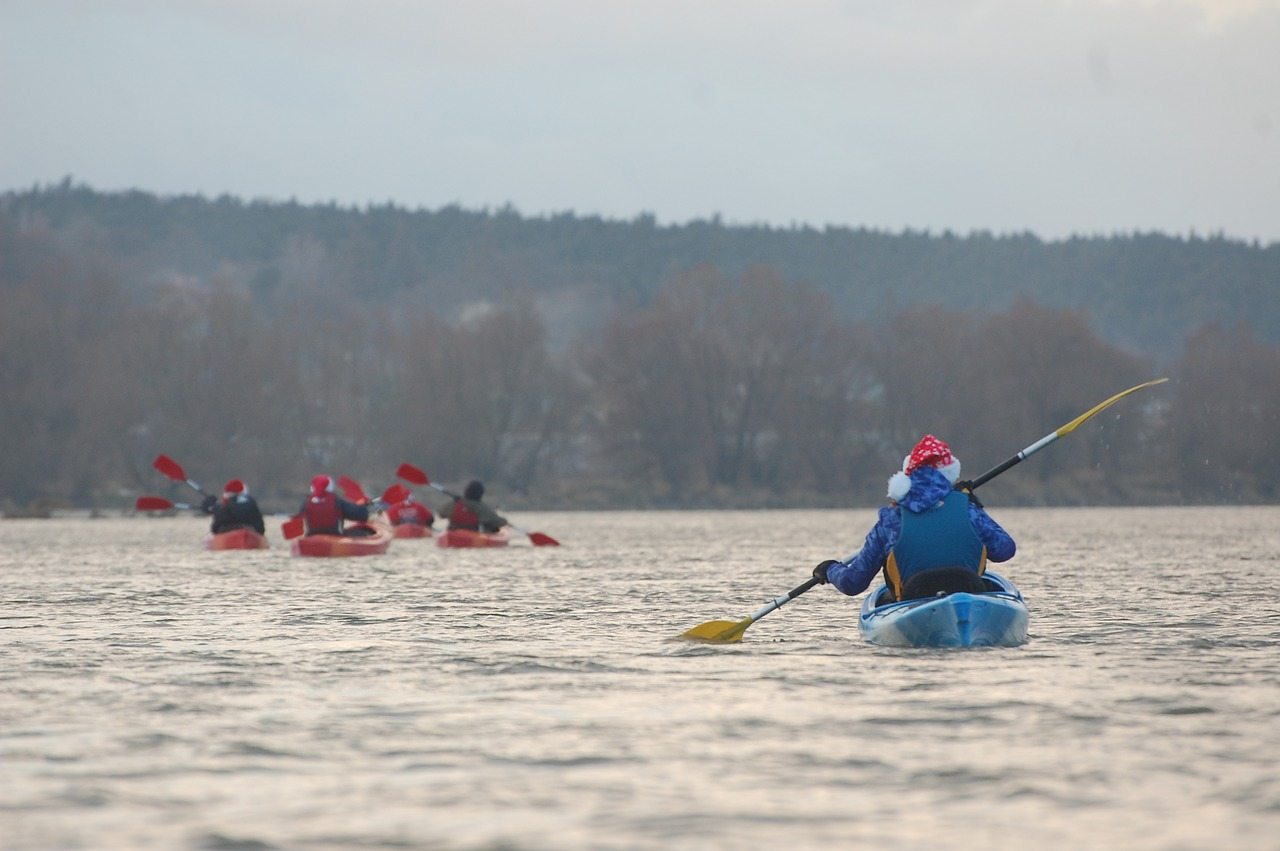kayak: (856, 568, 1031, 651), (295, 520, 392, 558), (438, 526, 512, 549), (201, 529, 273, 551)
